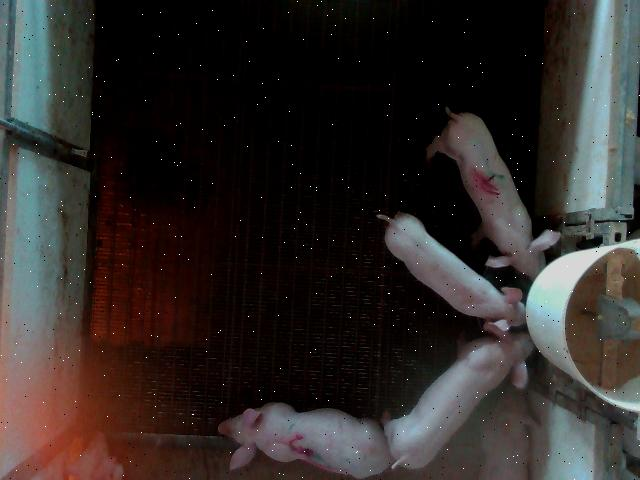pig-3: (219, 402, 394, 478)
pig-4: (426, 108, 560, 279)
